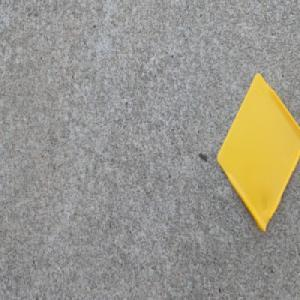PlasticPart: (216, 69, 300, 235)
